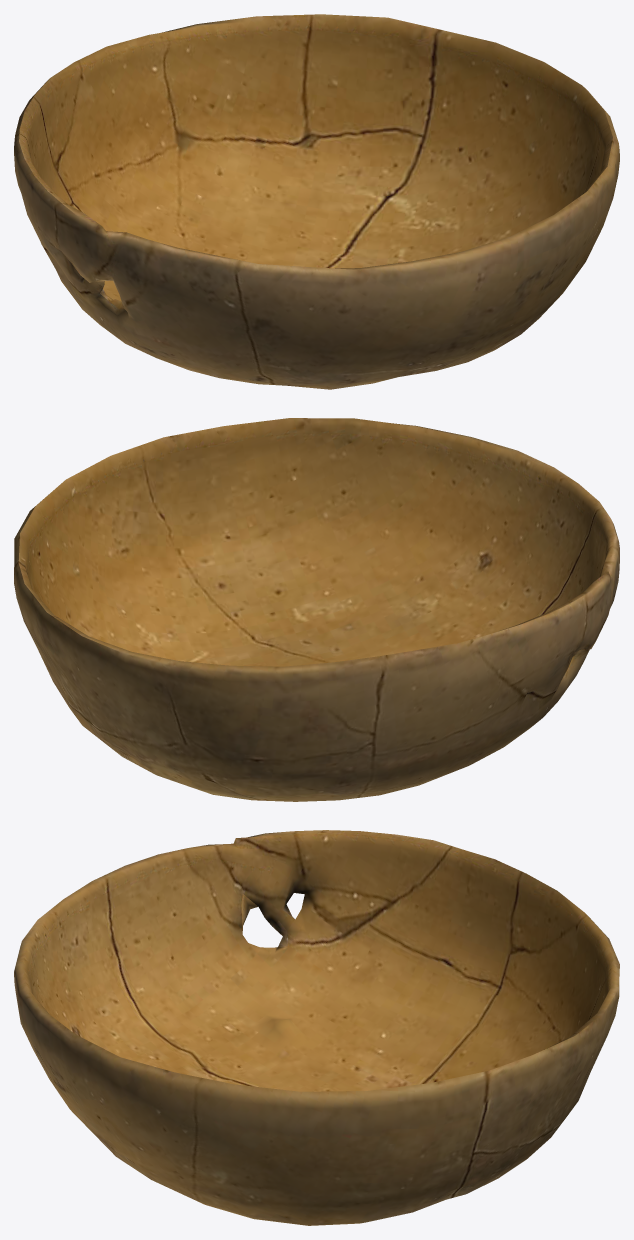
The model's file is antiquity8_82.fbx.
The picture shows the model from 3 angles, top to bottom: view 1: azimuth 30°, elevation 25°; view 2: azimuth 150°, elevation 25°; view 3: azimuth 270°, elevation 25°; orthographic projection. The views are drawn at different scales.
Parts seen in each view (by area): view 1: 0516_D21; view 2: 0516_D21; view 3: 0516_D21.
Boxes of the visible parts, x1,y1,x2,y2 form: 0516_D21: [14, 14, 619, 389]; 0516_D21: [14, 418, 619, 801]; 0516_D21: [14, 830, 619, 1225].
Size of the model in its own units: 38.34 by 14.81 by 38.69.
Materials: 1 (1 with a texture image).
